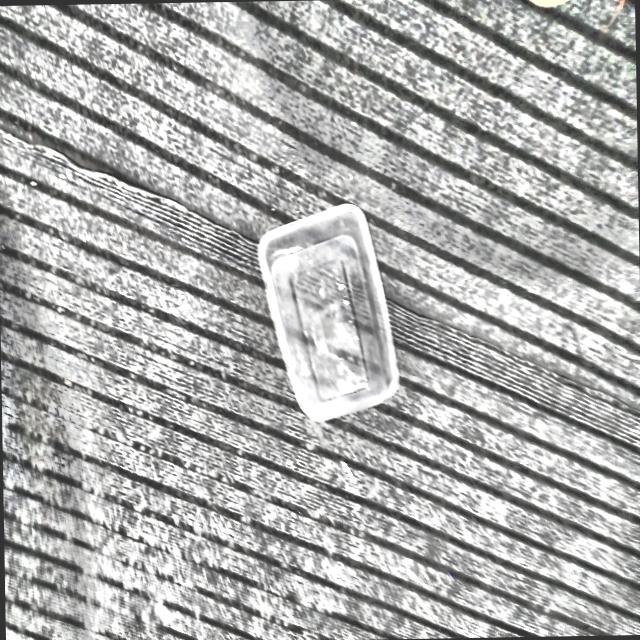plastic container: (257, 203, 399, 420)
